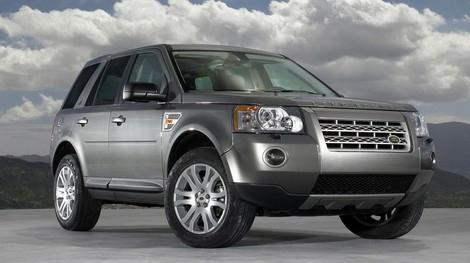Car: (38, 39, 436, 256)
